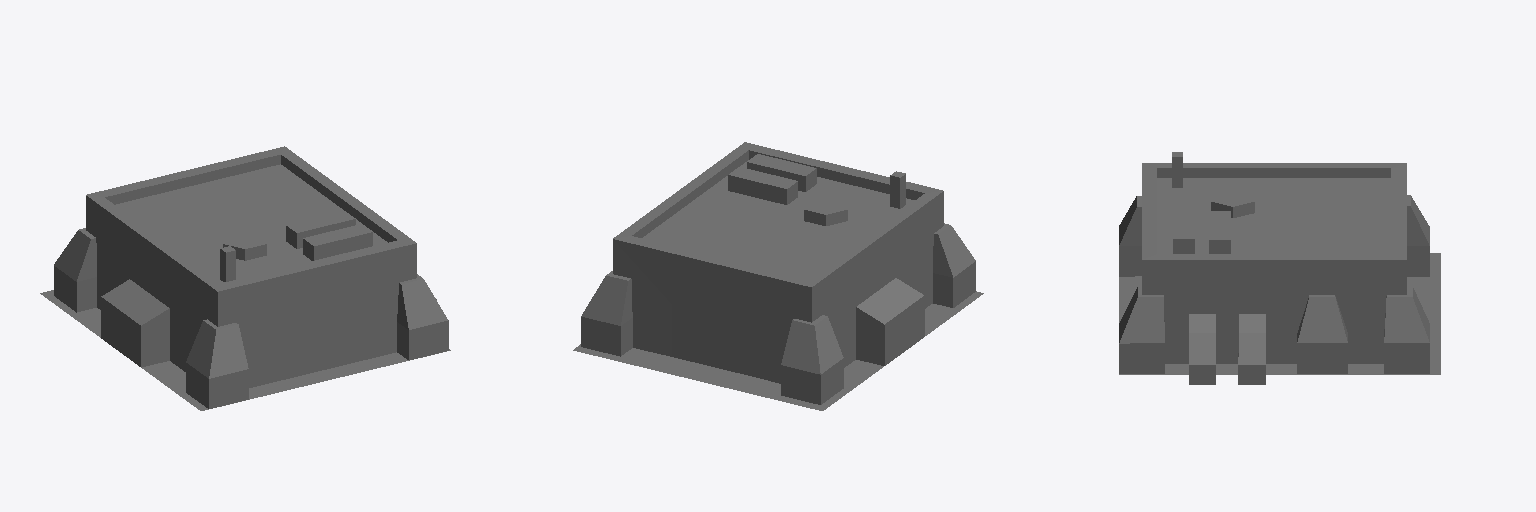
Rendered from dock.obj.
3 views of the same model, side by side, from view 1: azimuth 30°, elevation 25°; view 2: azimuth 150°, elevation 25°; view 3: azimuth 270°, elevation 25° (orthographic).
Visible parts, largest first — view 1: Box01_FACES01; view 2: Box01_FACES01; view 3: Box01_FACES01.
Boxes of the visible parts, <box> form: Box01_FACES01: <box>40,146,450,410</box>; Box01_FACES01: <box>573,142,983,410</box>; Box01_FACES01: <box>1119,152,1440,384</box>.
Size of the model in its own units: 273 by 122 by 281.